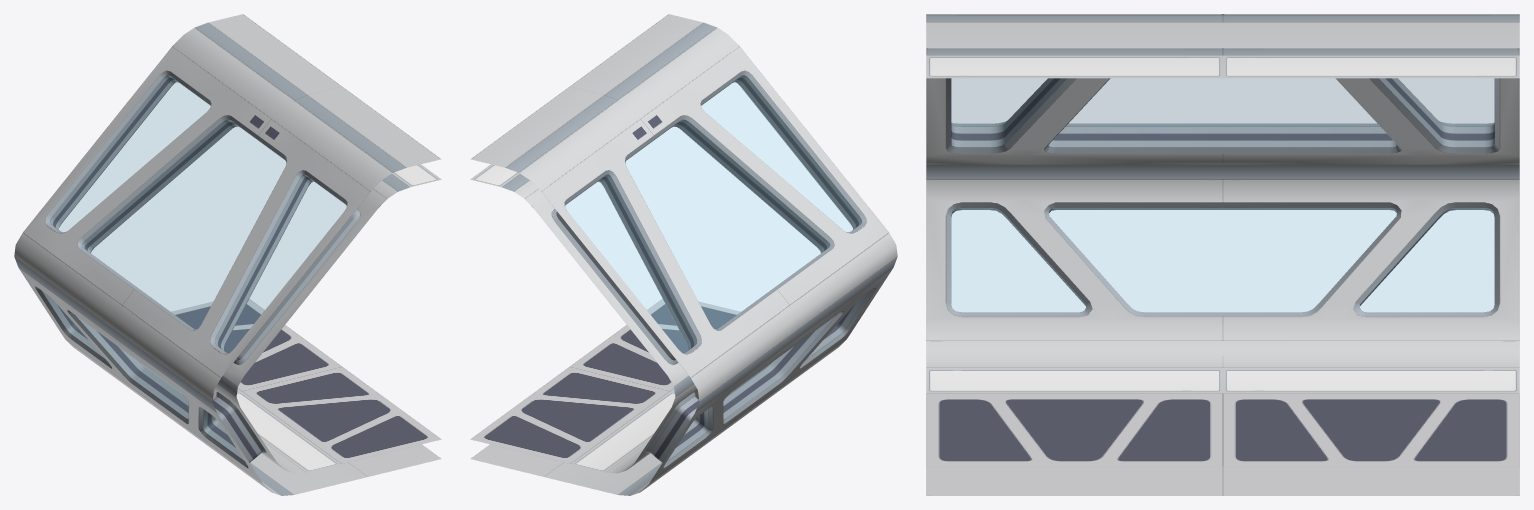
The model's file is Corridor_Part_01.FBX.
The picture shows the model from 3 angles, left to right: view 1: azimuth 30°, elevation 25°; view 2: azimuth 150°, elevation 25°; view 3: azimuth 270°, elevation 25°; orthographic projection. The views are drawn at different scales.
Visible parts, largest first — view 1: Corridor_Part_01, Glass; view 2: Corridor_Part_01, Glass; view 3: Corridor_Part_01, Glass.
Part boxes in pixels (<box>): Corridor_Part_01: <box>14,14,441,495</box>; Glass: <box>43,76,346,457</box>; Corridor_Part_01: <box>470,14,897,495</box>; Glass: <box>565,76,868,457</box>; Corridor_Part_01: <box>926,14,1519,495</box>; Glass: <box>951,78,1494,311</box>.
Bounding box in the file's own units: 4 × 5 × 6.
Materials: 2 (1 with a texture image).
